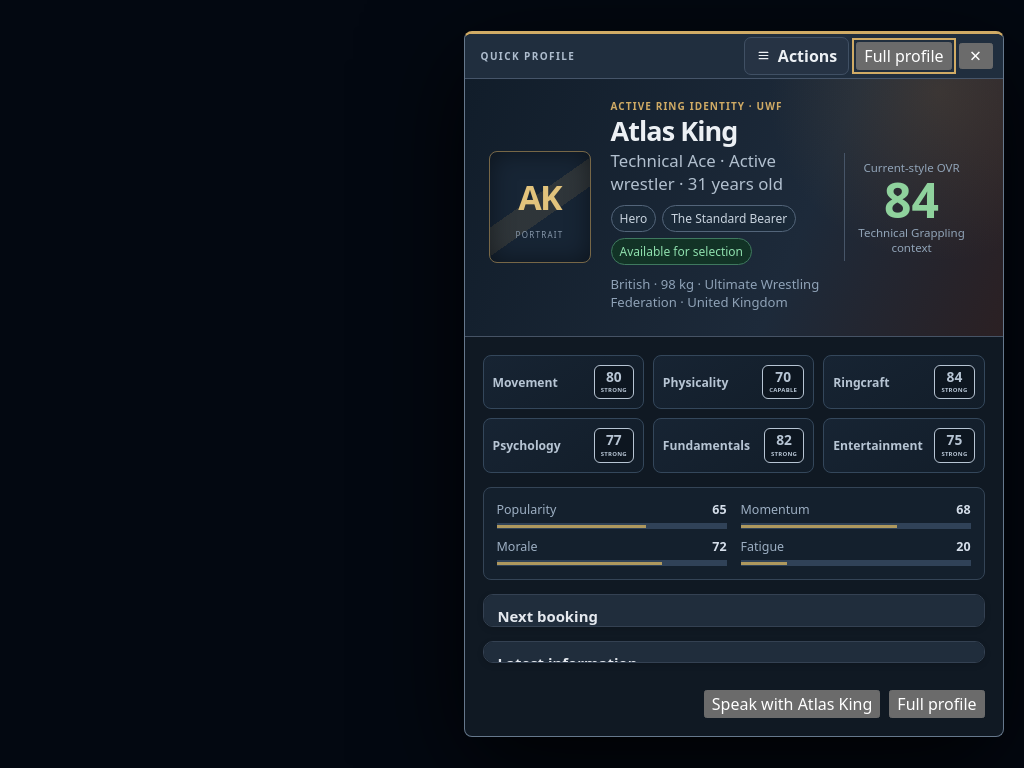
Test: Person profile hub › expands quick reference into the complete profile without losing search state
Expected: the text "QUICK PROFILE" is shown, [480,49,575,63]
Expected: the heading "Atlas King" is shown, [610,112,737,149]
Click the button "Full profile" next to "Actions": [904, 56] box [856,42,952,70]
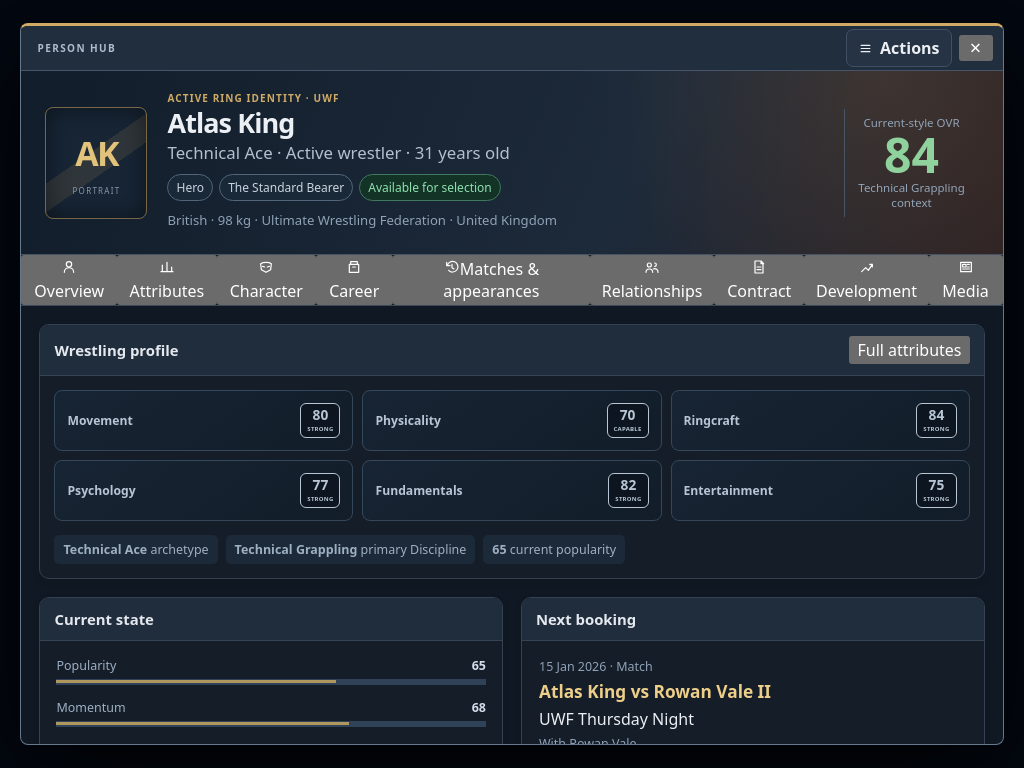
Now the text "PERSON HUB" is shown, box [38,41,116,55]
Now the navigation bar named "Person profile sections" is shown, box [22,255,1002,306]
Now the button "Matches & appearances" is shown, box [393,255,590,305]
